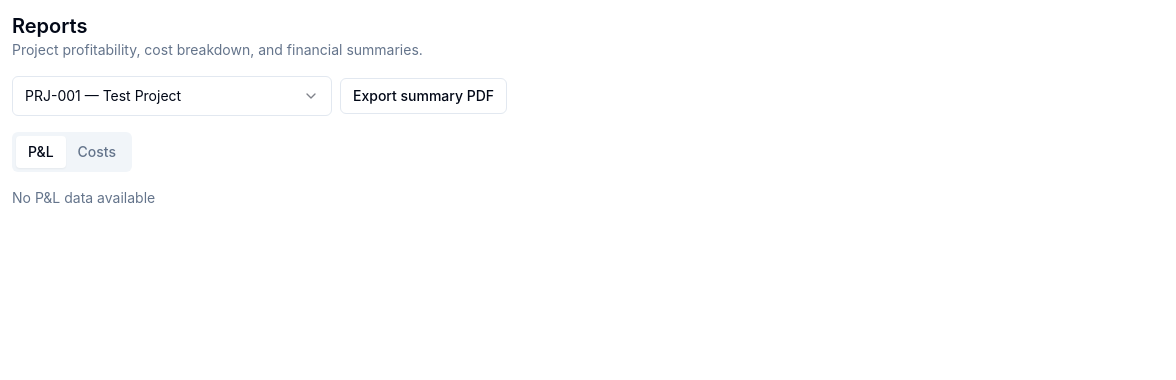
Test: ReportsPage › shows Add cost button for commercial users
The width and height of the screenshot is (1176, 380).
Click the tab "Costs" at (97, 152), box [66,136,128,168]
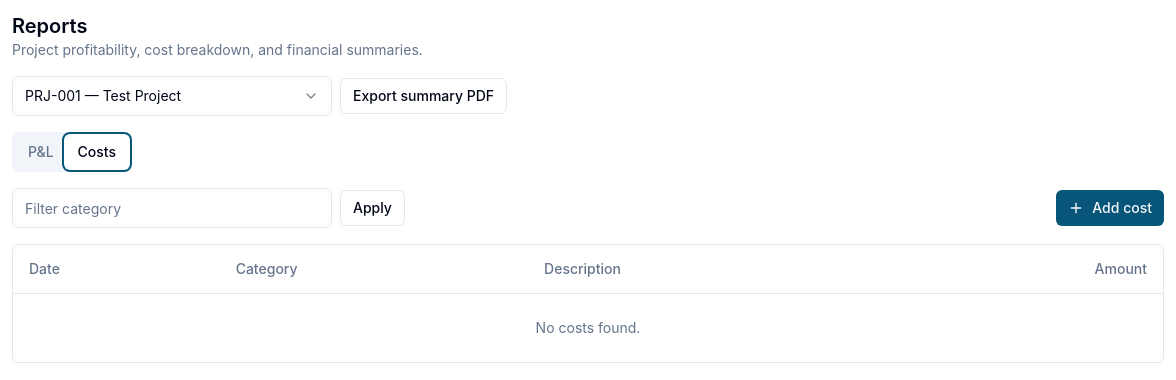
Now the button "Add cost" is shown, box [1056,190,1164,226]
